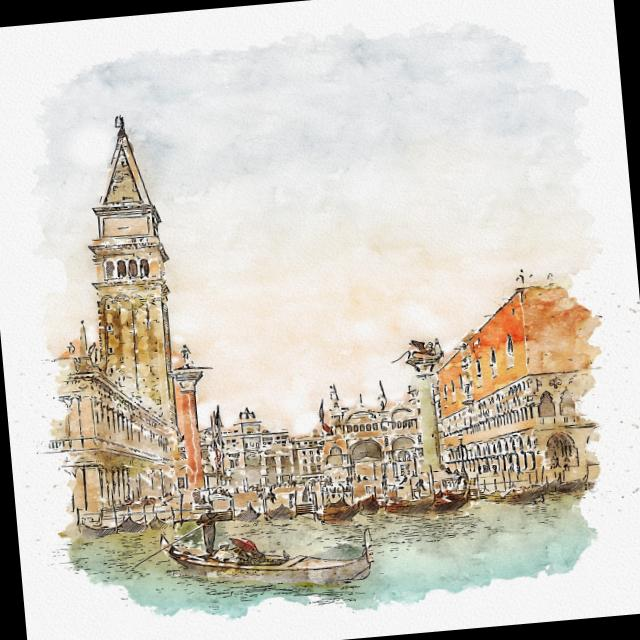boat: (153, 493, 388, 638)
